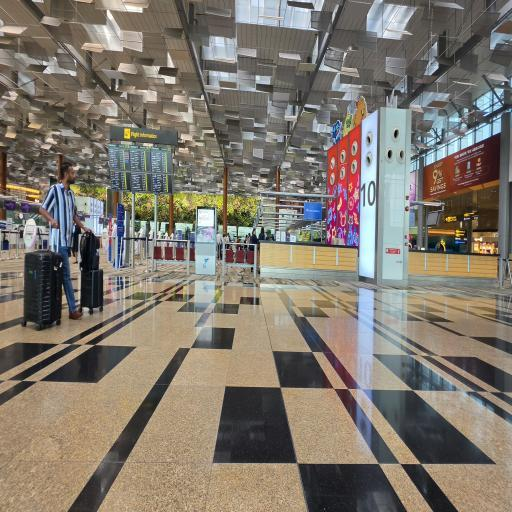person_with_luggage_right: (14, 158, 105, 326)
